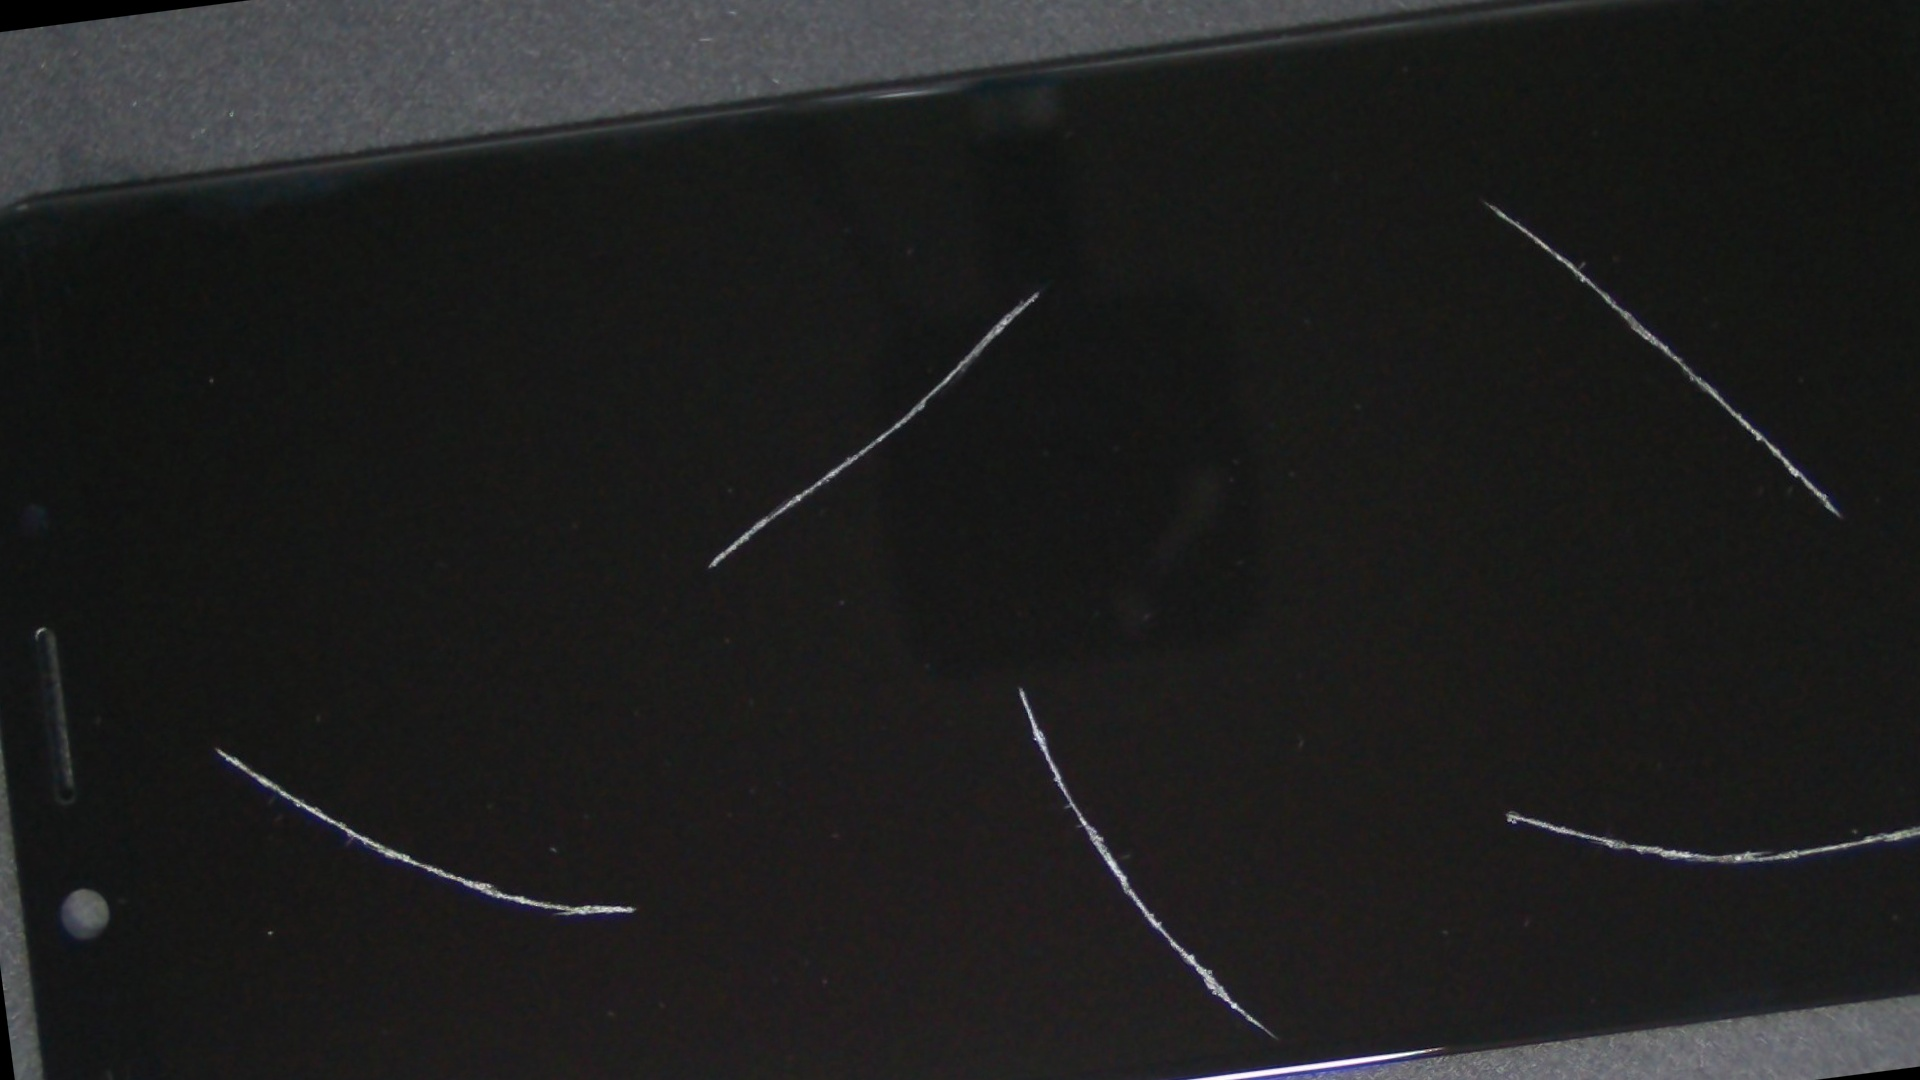oil: (694, 251, 1920, 1080), (451, 232, 1588, 1080), (459, 26, 1611, 555), (682, 0, 1920, 477), (46, 364, 384, 1080)
